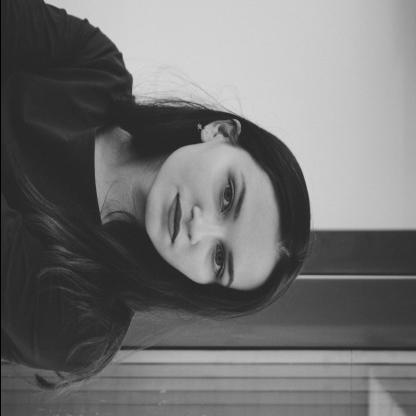Eye: (216, 170, 234, 216), (210, 241, 224, 278)
Mouth: (166, 192, 182, 246)
Nose: (186, 206, 220, 245)
